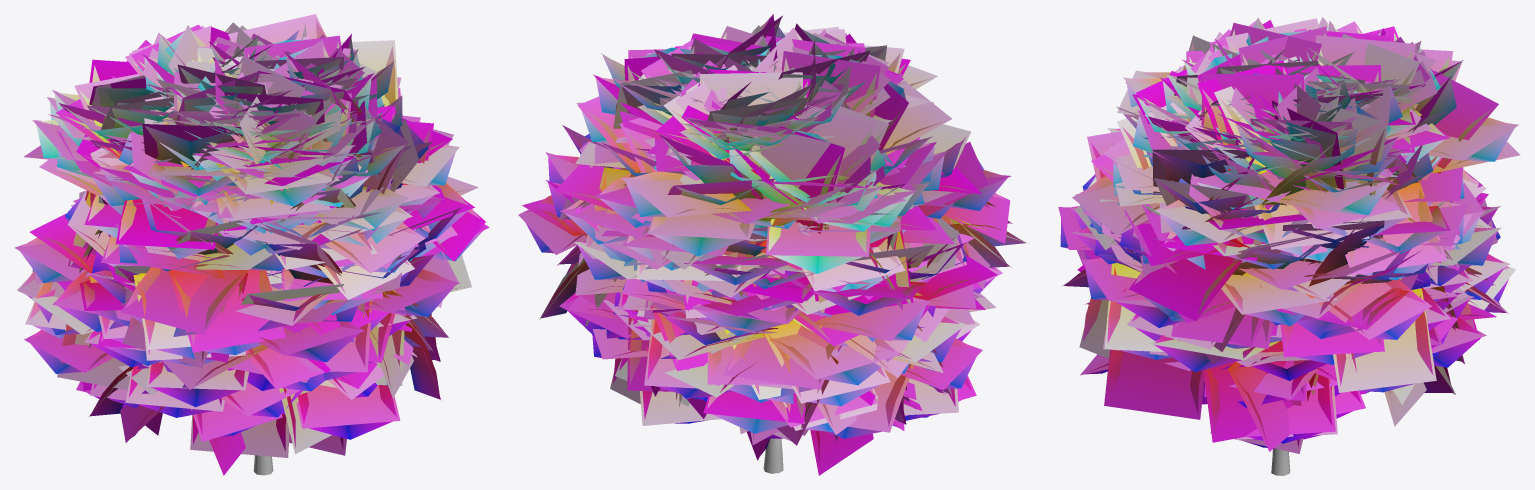
The model's file is oak_01_2.fbx.
The picture shows the model from 3 angles, left to right: view 1: azimuth 30°, elevation 25°; view 2: azimuth 150°, elevation 25°; view 3: azimuth 270°, elevation 25°; orthographic projection. The views are drawn at different scales.
Visible parts, largest first — view 1: oak_leaves_01_2_shadow, oak_leaves_01_2_lod_0; view 2: oak_leaves_01_2_shadow, oak_leaves_01_2_lod_0, oak_tree_01_2_lod_0; view 3: oak_leaves_01_2_shadow, oak_leaves_01_2_lod_0.
Part boxes in pixels (left/top/right/bottom): oak_leaves_01_2_shadow: left=14, top=14, right=489, bottom=475; oak_leaves_01_2_lod_0: left=20, top=19, right=482, bottom=451; oak_leaves_01_2_shadow: left=518, top=14, right=1028, bottom=475; oak_leaves_01_2_lod_0: left=525, top=19, right=1025, bottom=465; oak_tree_01_2_lod_0: left=763, top=438, right=783, bottom=473; oak_leaves_01_2_shadow: left=1058, top=17, right=1520, bottom=453; oak_leaves_01_2_lod_0: left=1060, top=18, right=1514, bottom=448.
Size of what is drawn, in the model's own units: 13.91 by 13.24 by 13.4.
